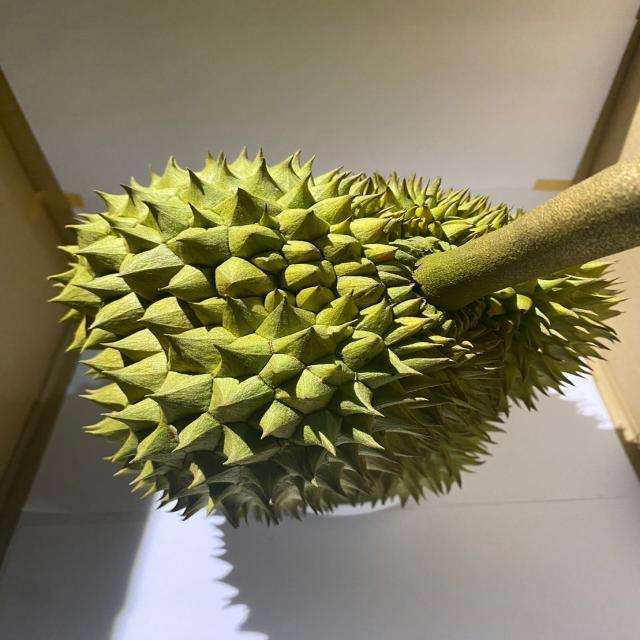immature: (44, 147, 624, 532)
